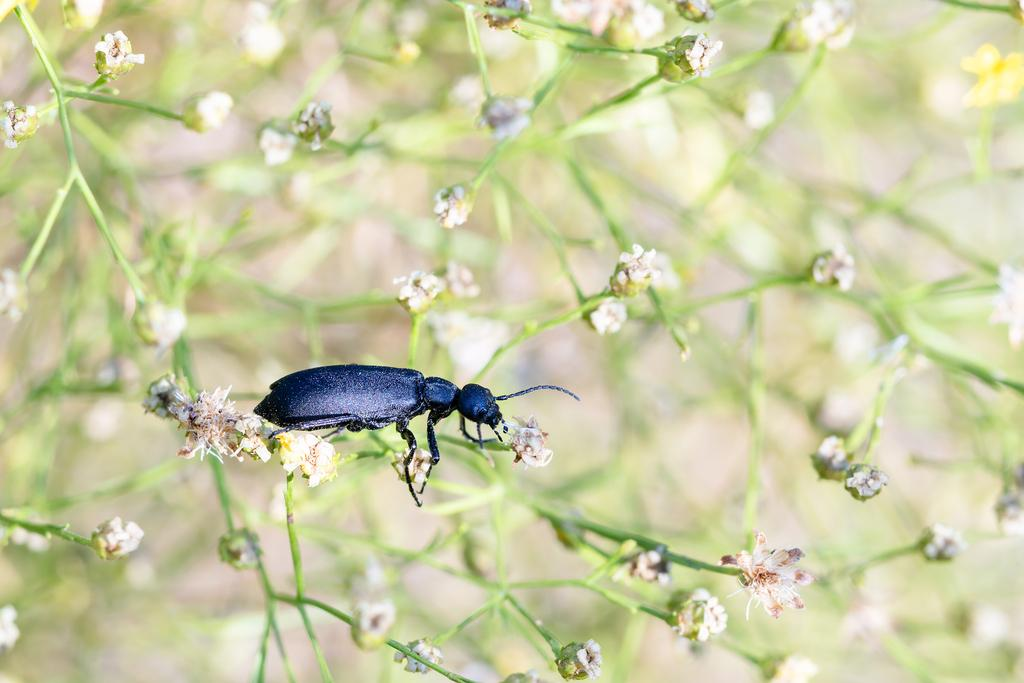blister_beetle: (233, 322, 591, 525)
